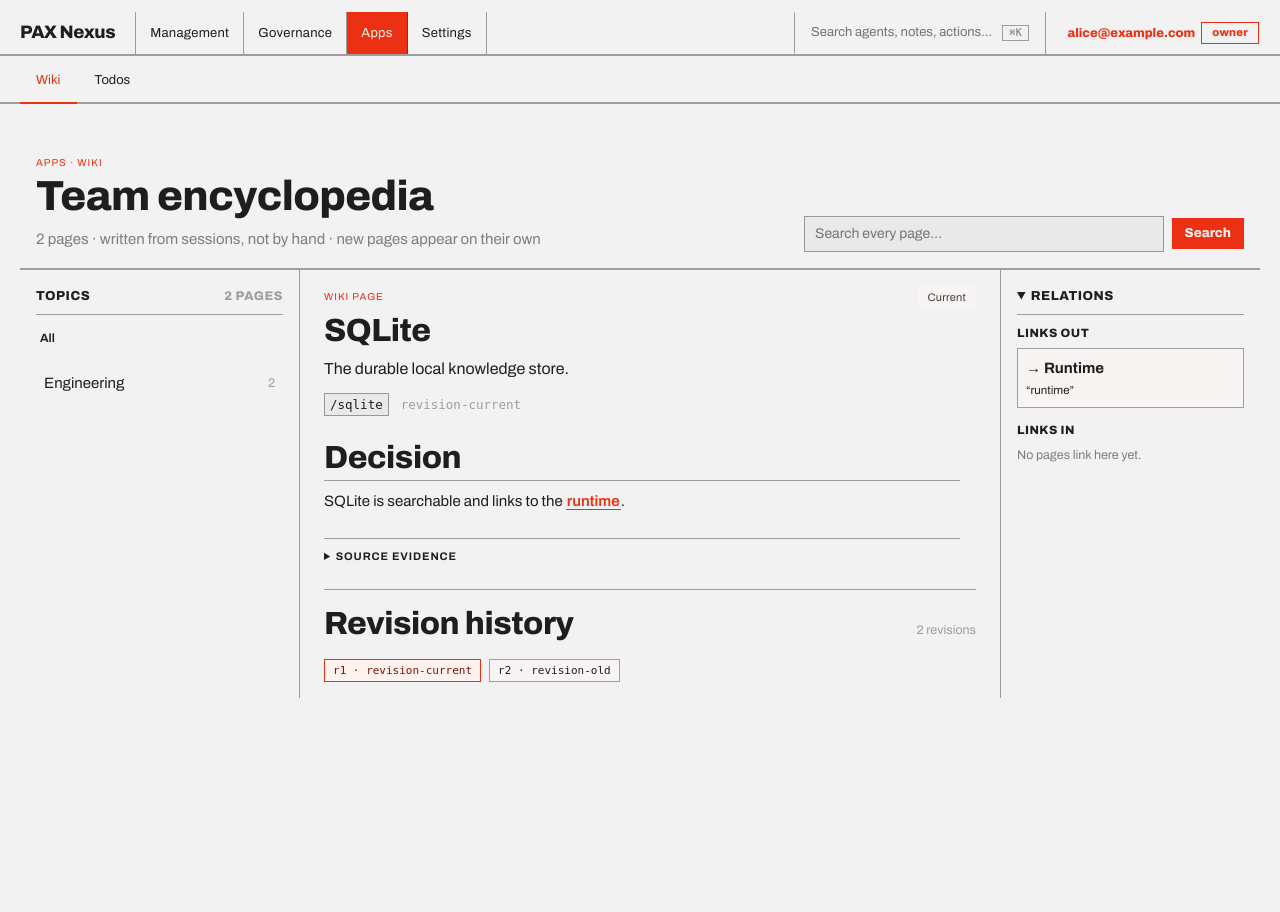
Test: wiki browse route topics and search › searches current revisions and opens a historical revision
Expected: the heading "SQLite" is shown, [324,313,431,348]
Type "searchable" into the search field named "Search the wiki" at (984, 234), box [804,216,1164,252]
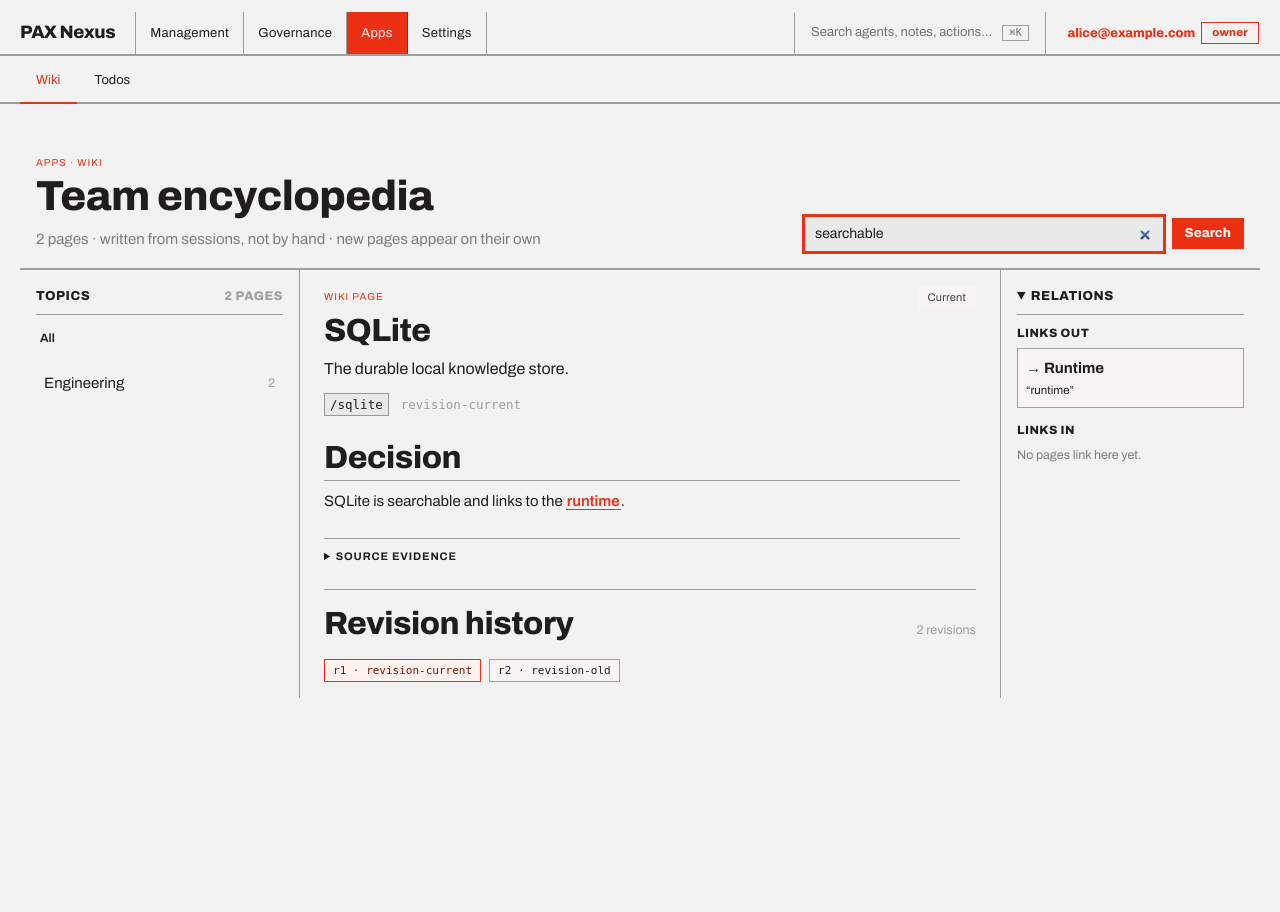
Click the button "Search" at (1208, 234), box [1172,218,1244,249]
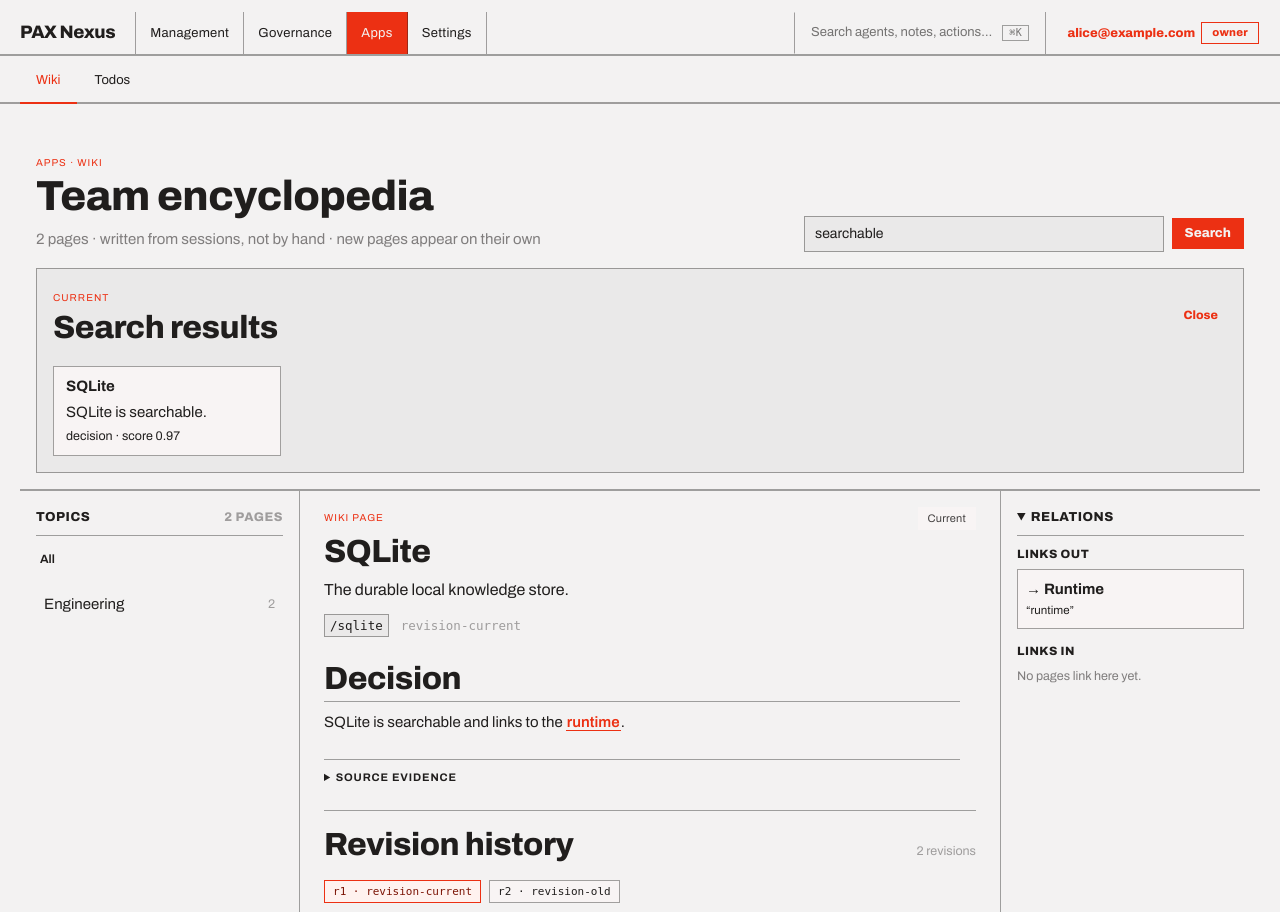
Expected: the text "SQLite" is shown, [66,375,115,398]
Expected: the text "SQLite is searchable." is shown, [66,401,207,424]
Click the button "r2 · revision-old" at (554, 892), box [489,880,620,903]
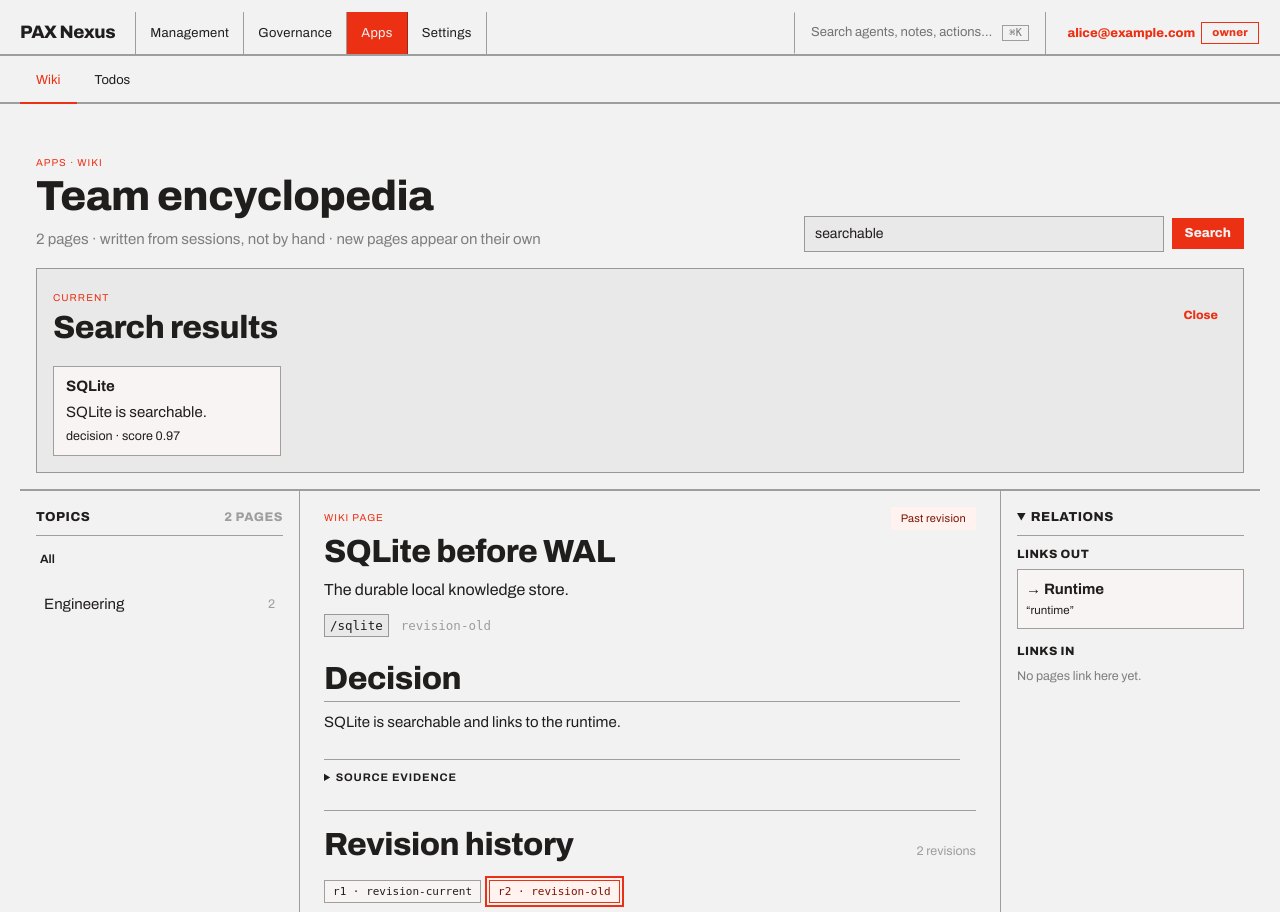
Expected: the heading "SQLite before WAL" is shown, [324,534,615,570]
Expected: the text "Past revision" is shown, [891,507,976,530]
